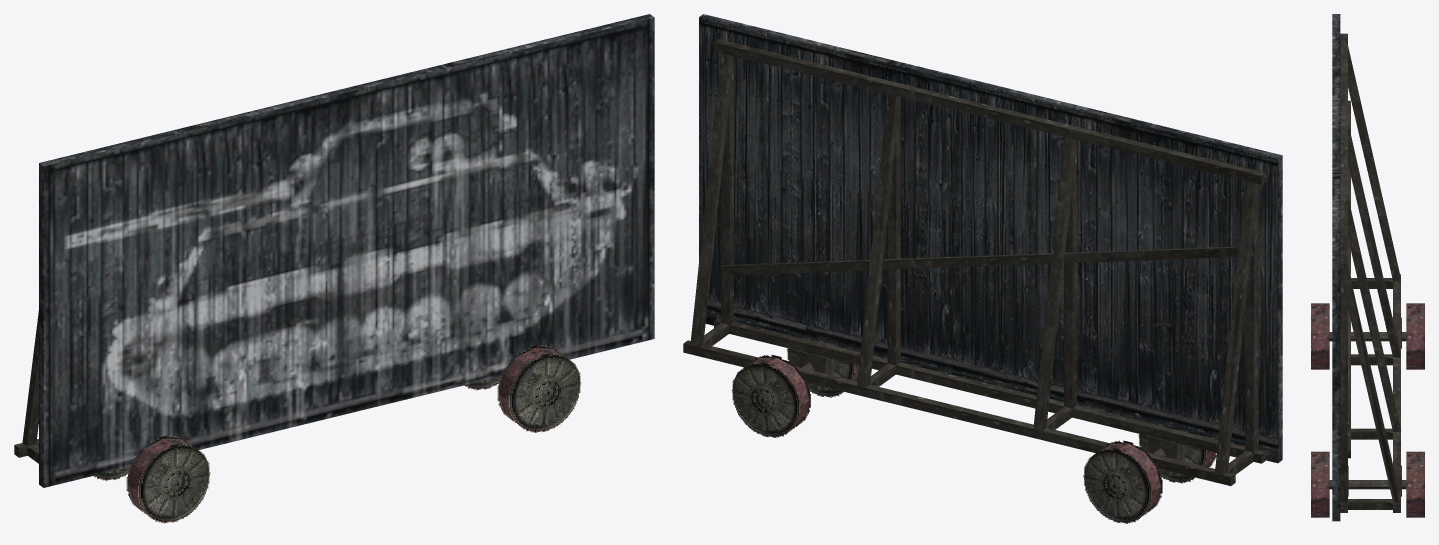
Rendered from Training_Tank.fbx.
3 views of the same model, side by side, from view 1: azimuth 30°, elevation 25°; view 2: azimuth 150°, elevation 25°; view 3: azimuth 270°, elevation 25° (orthographic). The views are drawn at different scales.
Parts seen in each view (by area): view 1: Box233, Cylinder103, Cylinder102, BODY; view 2: Box233, BODY, Cylinder102, Cylinder103; view 3: BODY, Box233, Cylinder103, Cylinder102.
Part boxes in pixels (bbox=[...]): Box233: bbox=[39, 14, 654, 487]; Cylinder103: bbox=[464, 345, 581, 432]; Cylinder102: bbox=[93, 435, 210, 523]; BODY: bbox=[14, 311, 38, 463]; Box233: bbox=[699, 14, 1282, 463]; BODY: bbox=[683, 39, 1266, 485]; Cylinder102: bbox=[1083, 434, 1216, 523]; Cylinder103: bbox=[731, 348, 858, 437]; BODY: bbox=[1340, 33, 1401, 512]; Box233: bbox=[1332, 14, 1340, 521]; Cylinder103: bbox=[1311, 451, 1424, 517]; Cylinder102: bbox=[1311, 303, 1424, 369].
Size of what is drawn, in the model's own units: 413 by 242 by 81.35.
